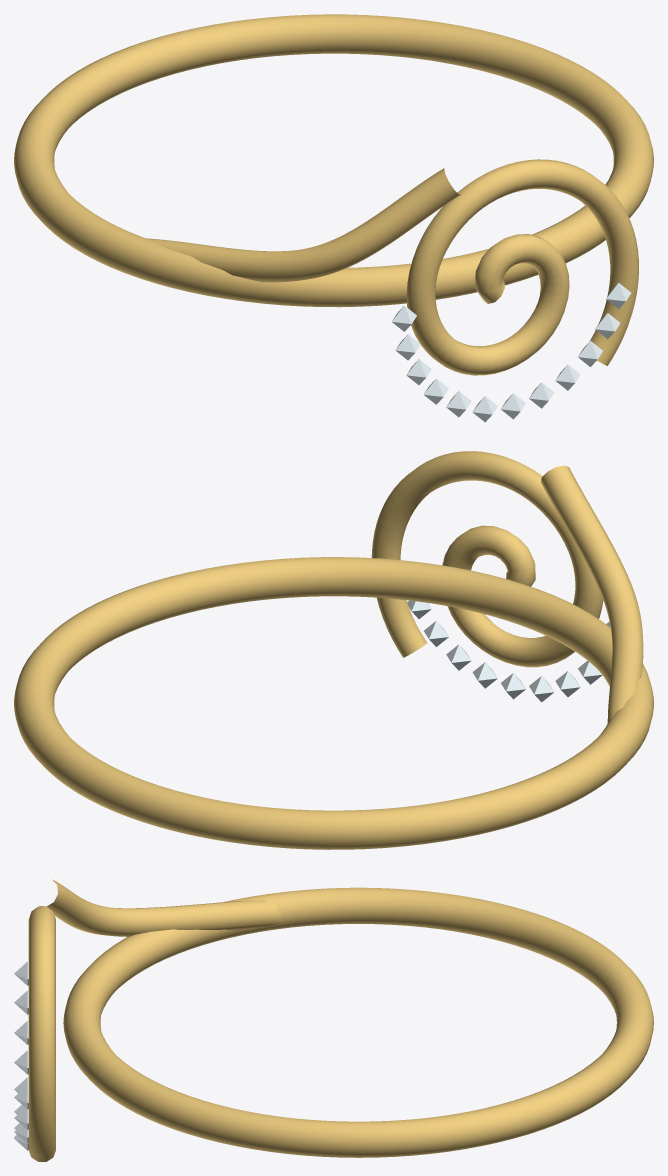
The model's file is circular-gleam-prototype.glb.
3 renders of one model, top to bottom at view 1: azimuth 30°, elevation 25°; view 2: azimuth 150°, elevation 25°; view 3: azimuth 270°, elevation 25°, orthographic. The views are drawn at different scales.
Visible parts, largest first — view 1: metal (×3); view 2: metal (×3); view 3: metal (×3).
Boxes of the visible parts, x1,y1,x2,y2 form: metal (×3): (14, 14, 653, 375); metal (×3): (14, 451, 653, 849); metal (×3): (28, 879, 653, 1161).
Bounding box in the file's own units: 2.39 × 1.05 × 2.59.
